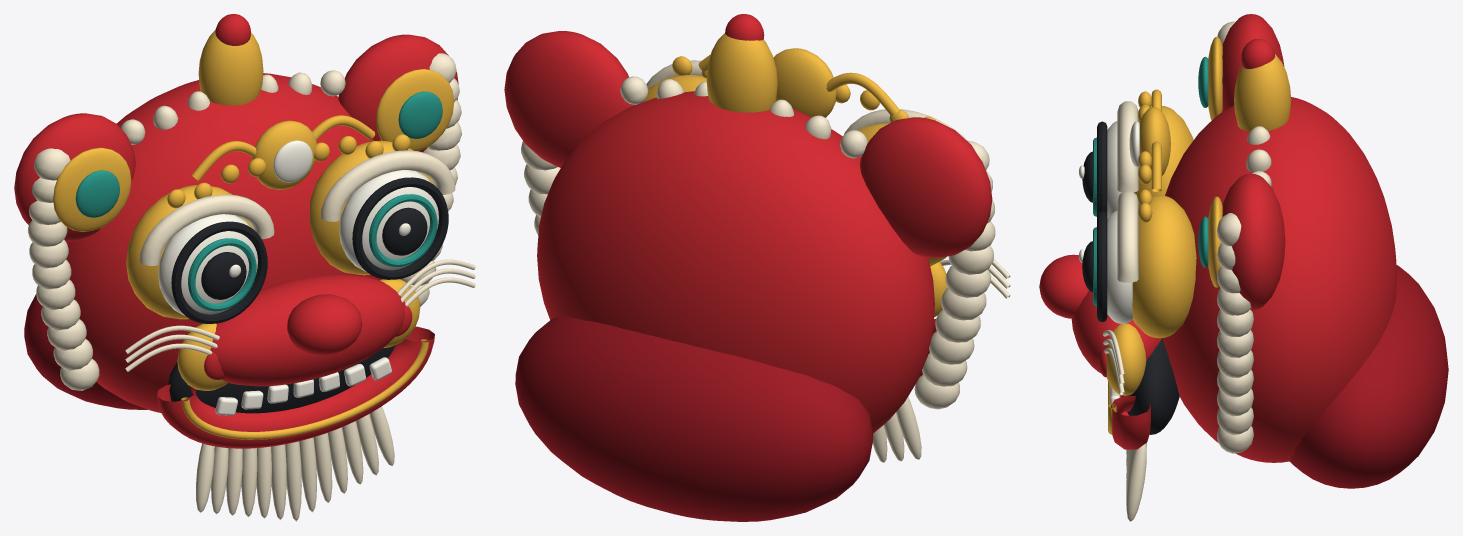
The model's file is chinese-new-year-lion-dance-head.glb.
3 renders of one model, left to right at view 1: azimuth 30°, elevation 25°; view 2: azimuth 150°, elevation 25°; view 3: azimuth 270°, elevation 25°, orthographic. The views are drawn at different scales.
Parts seen in each view (by area): view 1: Export batch Vermilion lacquer, Export batch Ivory fur and teeth, Export batch Gold ornament, Export batch Black lacquer, Export batch Warm white eyes, Export batch Jade painted detail, Export batch Deep red fabric; view 2: Export batch Vermilion lacquer, Export batch Deep red fabric, Export batch Ivory fur and teeth, Export batch Gold ornament; view 3: Export batch Vermilion lacquer, Export batch Gold ornament, Export batch Deep red fabric, Export batch Ivory fur and teeth, Export batch Black lacquer, Export batch Warm white eyes, Export batch Jade painted detail.
Boxes of the visible parts, x1,y1,x2,y2 form: Export batch Vermilion lacquer: (14, 14, 458, 448); Export batch Ivory fur and teeth: (28, 53, 475, 521); Export batch Gold ornament: (53, 30, 453, 439); Export batch Black lacquer: (168, 177, 448, 413); Export batch Warm white eyes: (158, 140, 438, 415); Export batch Jade painted detail: (75, 91, 442, 311); Export batch Deep red fabric: (24, 294, 147, 409); Export batch Vermilion lacquer: (504, 14, 992, 433); Export batch Deep red fabric: (515, 316, 872, 521); Export batch Ivory fur and teeth: (521, 60, 1010, 462); Export batch Gold ornament: (620, 33, 947, 317); Export batch Vermilion lacquer: (1039, 14, 1396, 462); Export batch Gold ornament: (1106, 37, 1291, 434); Export batch Deep red fabric: (1289, 265, 1448, 488); Export batch Ivory fur and teeth: (1102, 21, 1271, 521); Export batch Black lacquer: (1082, 121, 1179, 434); Export batch Warm white eyes: (1079, 121, 1139, 403); Export batch Jade painted detail: (1093, 56, 1208, 306).
Size of the model in its own units: 1.8 by 1.8 by 1.43.
